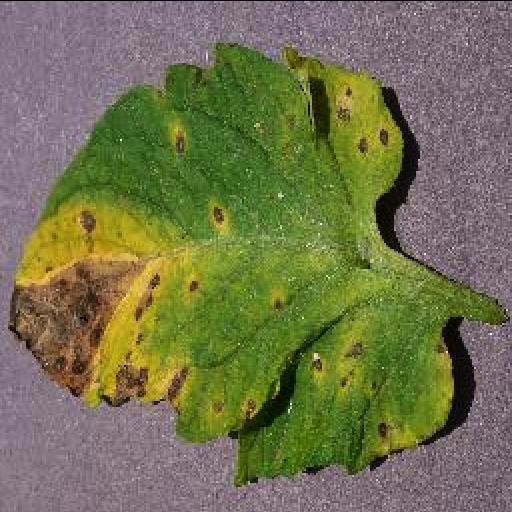disease_tomato: (11, 38, 457, 482)
